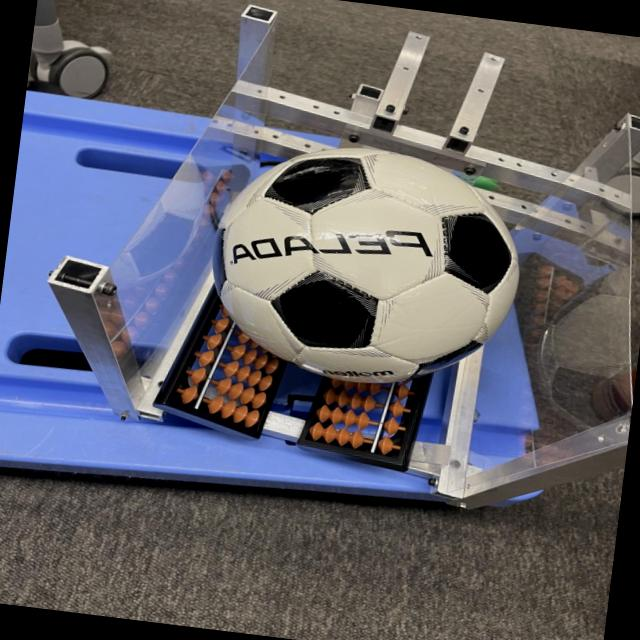Soccer Ball: (198, 130, 532, 400)
